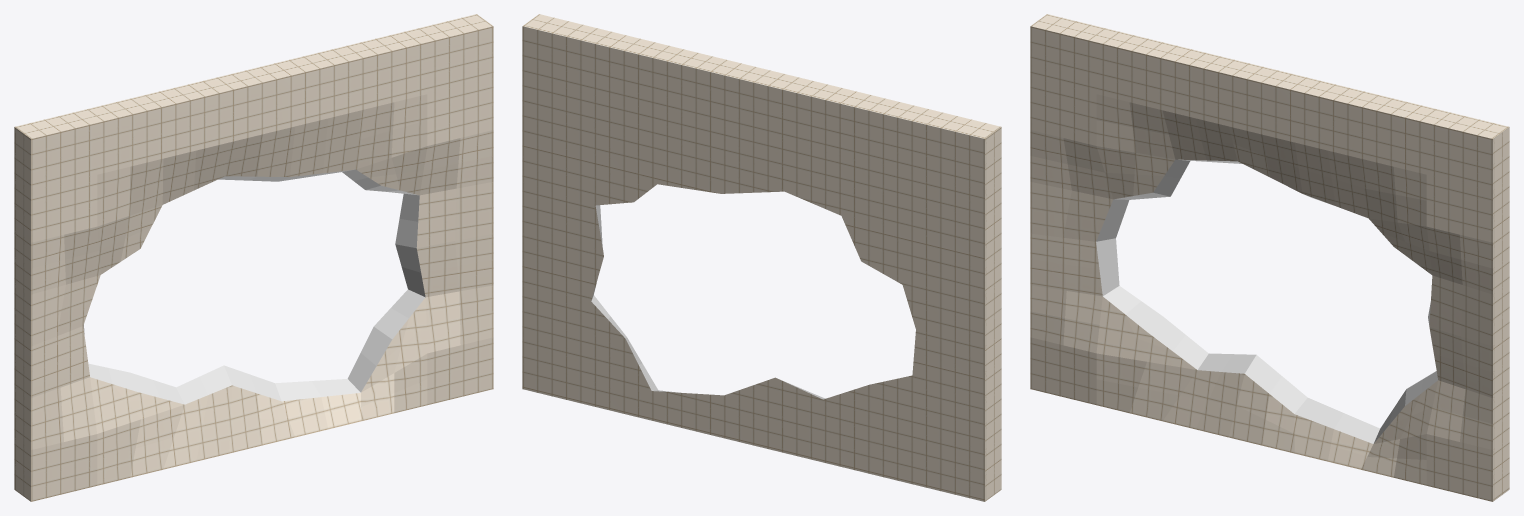
File: Hole.fbx
3 views of the same model, side by side, from view 1: azimuth 30°, elevation 25°; view 2: azimuth 150°, elevation 25°; view 3: azimuth 330°, elevation 25° (orthographic).
Visible parts, largest first — view 1: Plane; view 2: Plane; view 3: Plane.
Boxes of the visible parts, bbox=[...] form: Plane: bbox=[14, 14, 493, 501]; Plane: bbox=[522, 14, 1001, 501]; Plane: bbox=[1030, 14, 1509, 501].
Bounding box in the file's own units: 400 × 300 × 25.
